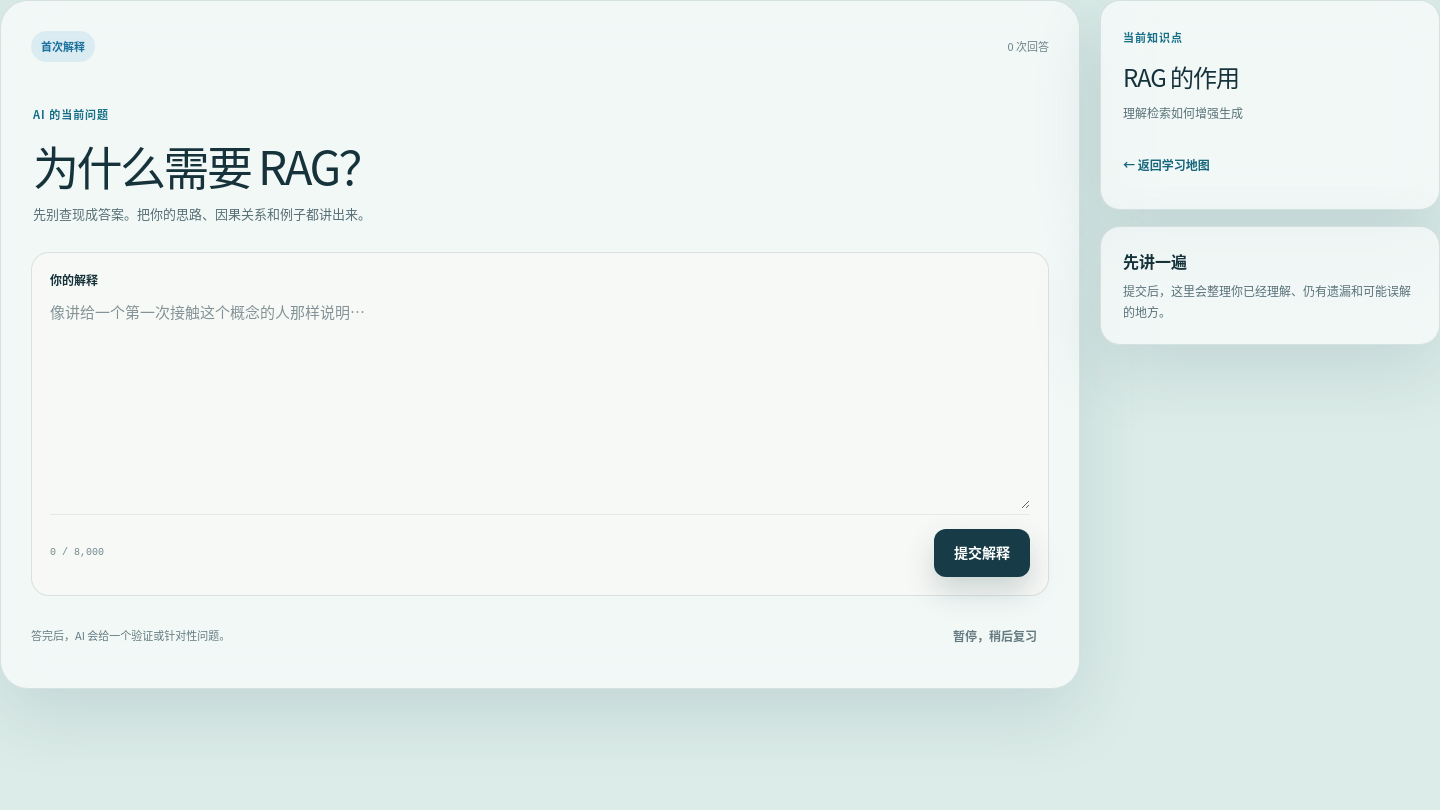
Test: TrainingPanel › 提交 partial 后显示理解点、遗漏和针对性追问
Type "RAG 就是搜索资料。" into the text box labelled "你的解释". click: x=540, y=404
box: [50,299,1030,509]
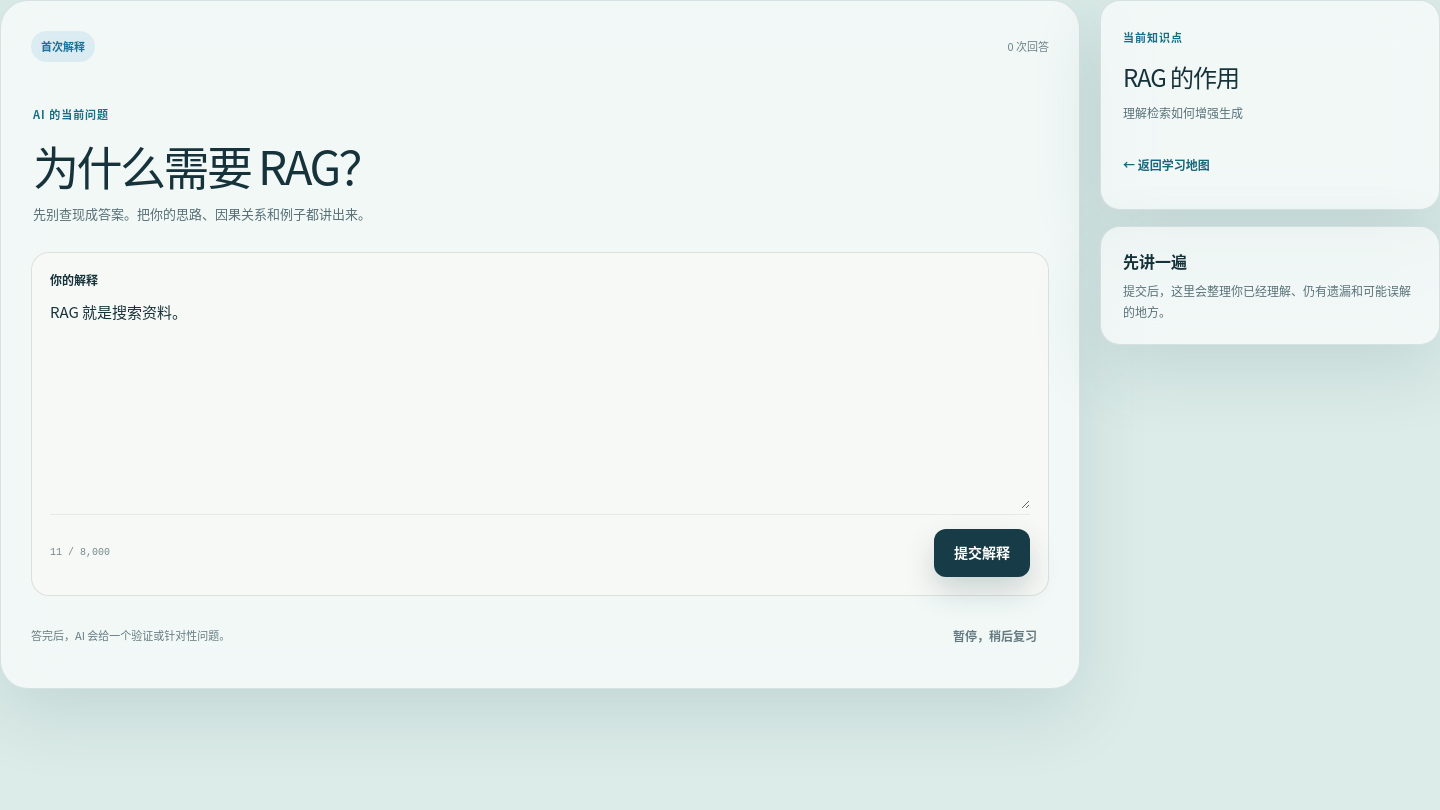
Click the button "提交解释". click: x=982, y=553
box: [934,529,1030,577]
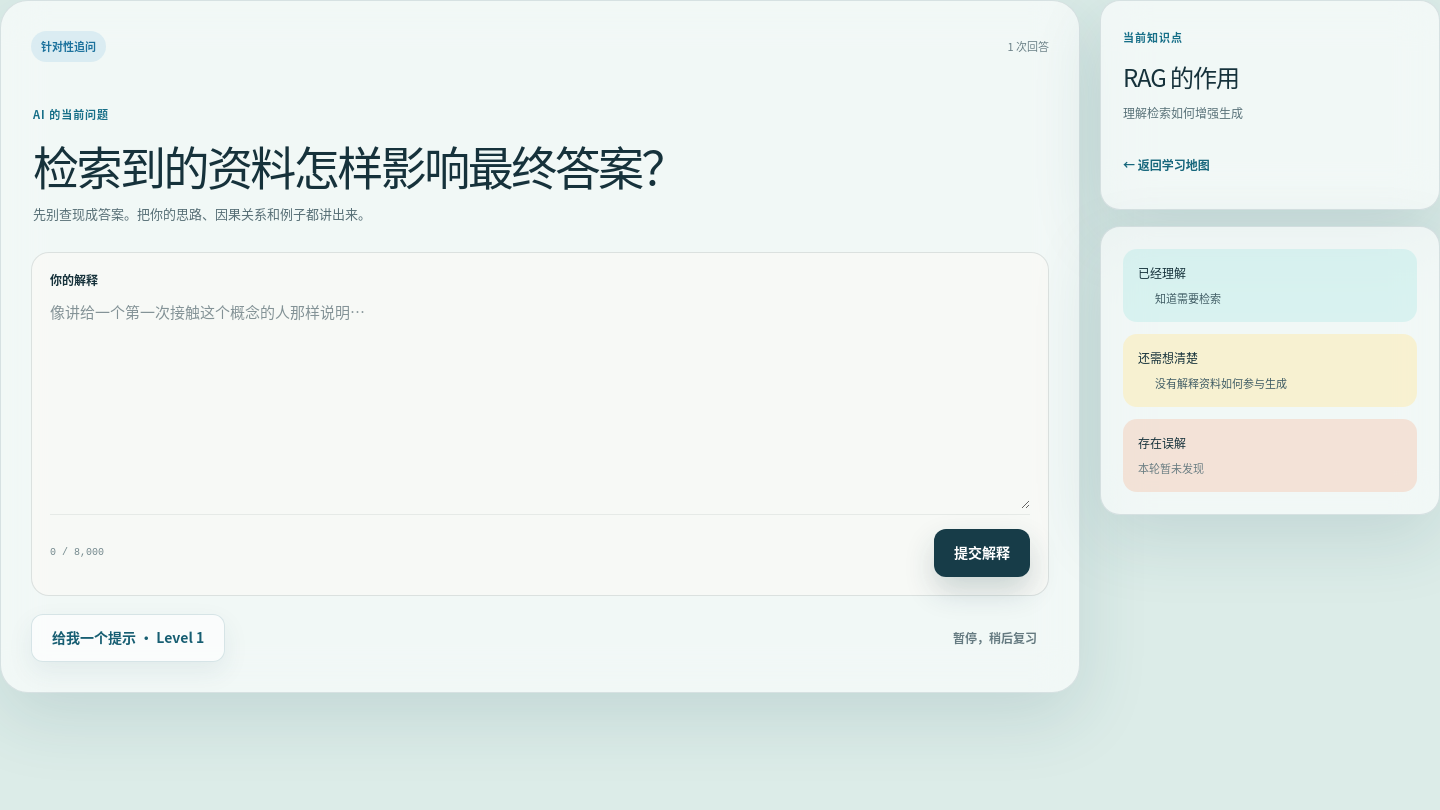
Now the list item "知道需要检索" is shown, box [1155,290,1221,306]
Now the heading "还需想清楚" is shown, box [1138,349,1198,366]
Now the heading "检索到的资料怎样影响最终答案？" is shown, box [33,140,753,192]
